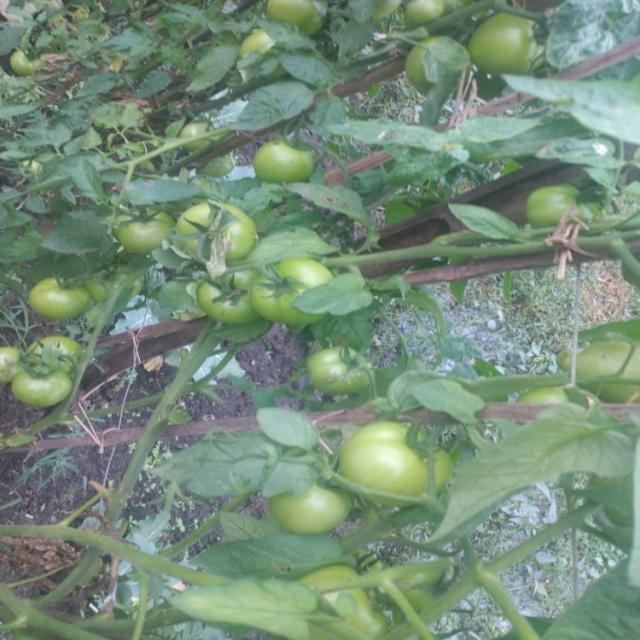tomato: (330, 413, 455, 504), (245, 253, 352, 340), (173, 191, 277, 278), (465, 1, 549, 78), (297, 343, 391, 408), (561, 333, 640, 409), (250, 492, 353, 545), (520, 169, 599, 229), (189, 265, 252, 324), (8, 364, 76, 416), (245, 137, 328, 178), (255, 1, 341, 35), (119, 210, 180, 252), (25, 321, 79, 368), (32, 272, 76, 310), (11, 48, 55, 78), (402, 1, 454, 19), (179, 125, 203, 139)
